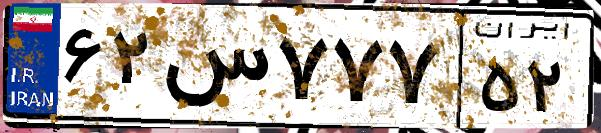2: (525, 38, 570, 115), (110, 28, 158, 98)
5: (475, 38, 525, 113)
6: (57, 26, 110, 100)
7: (270, 28, 330, 110), (385, 28, 445, 110), (330, 28, 385, 110)
س: (158, 20, 270, 120)
